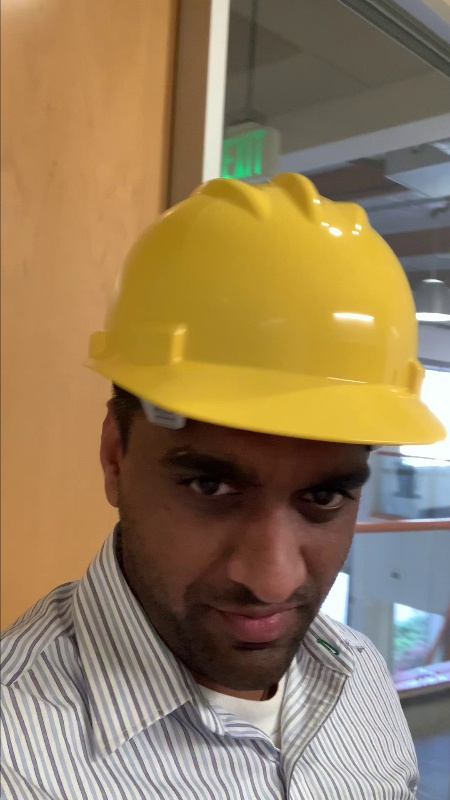helmet: (77, 161, 449, 455)
